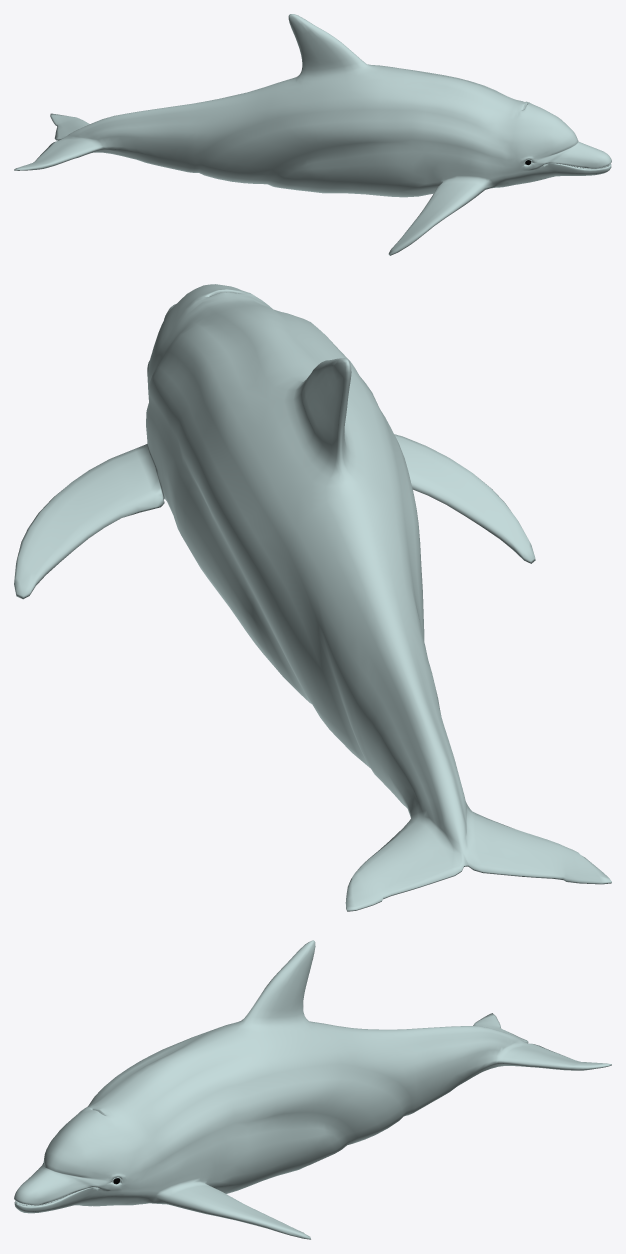
The model's file is dolphin_000012.obj.
3 renders of one model, top to bottom at view 1: azimuth 30°, elevation 25°; view 2: azimuth 150°, elevation 25°; view 3: azimuth 270°, elevation 25°, orthographic. The views are drawn at different scales.
Visible parts, largest first — view 1: Dolphin; view 2: Dolphin; view 3: Dolphin.
Part boxes in pixels (box(x1,y1,x2,y2)): Dolphin: box(14, 14, 611, 255); Dolphin: box(14, 284, 611, 911); Dolphin: box(14, 940, 611, 1239).
Bounding box in the file's own units: 5.52 × 2.22 × 5.6.
